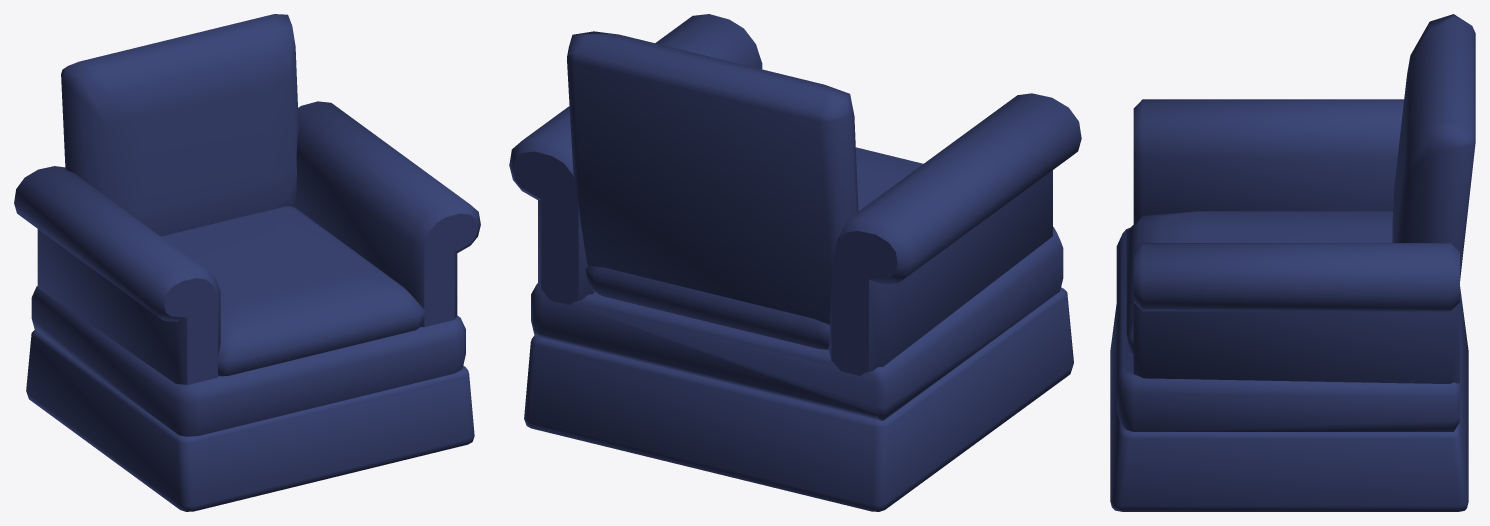
Rendered from ArmChair_01.fbx.
3 views of the same model, side by side, from view 1: azimuth 30°, elevation 25°; view 2: azimuth 150°, elevation 25°; view 3: azimuth 270°, elevation 25° (orthographic). The views are drawn at different scales.
Visible parts, largest first — view 1: ArmChair_01; view 2: ArmChair_01; view 3: ArmChair_01.
Part boxes in pixels (<box>): ArmChair_01: <box>14,14,480,511</box>; ArmChair_01: <box>509,14,1081,511</box>; ArmChair_01: <box>1110,14,1475,511</box>.
Size of the model in its own units: 0.8848 by 0.8504 by 0.7696.
